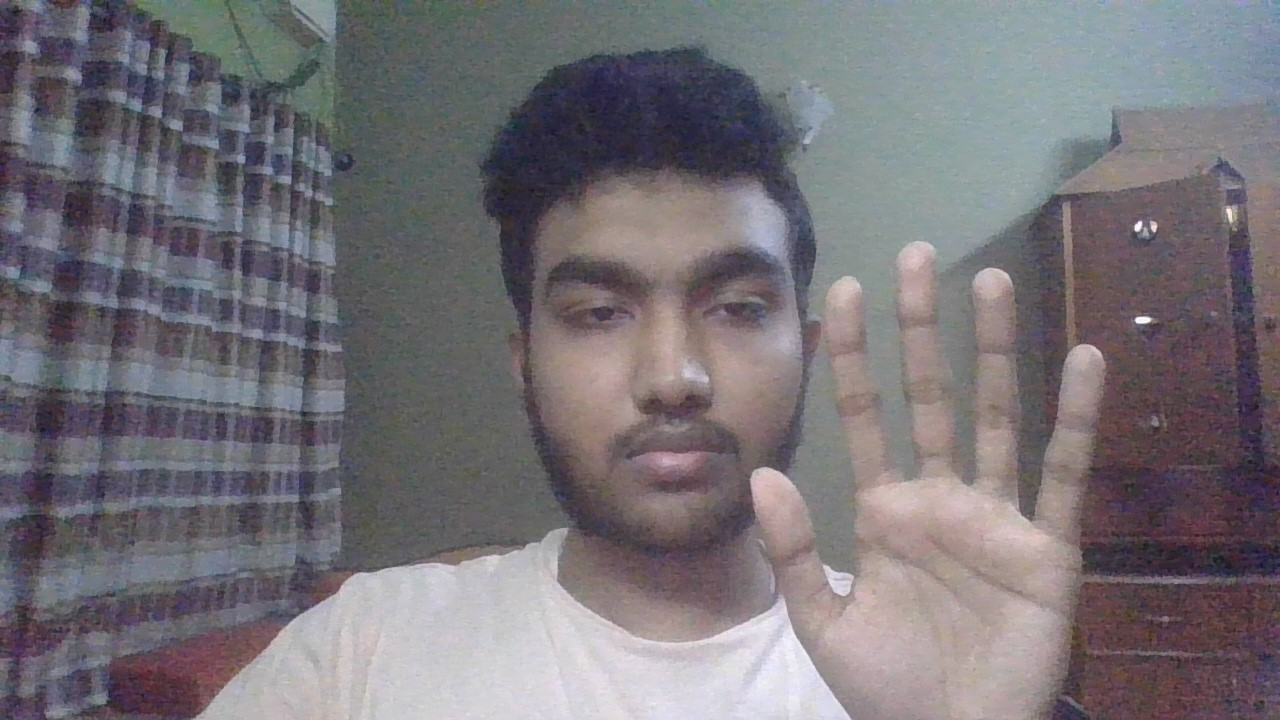Hello: (736, 220, 1111, 720)
